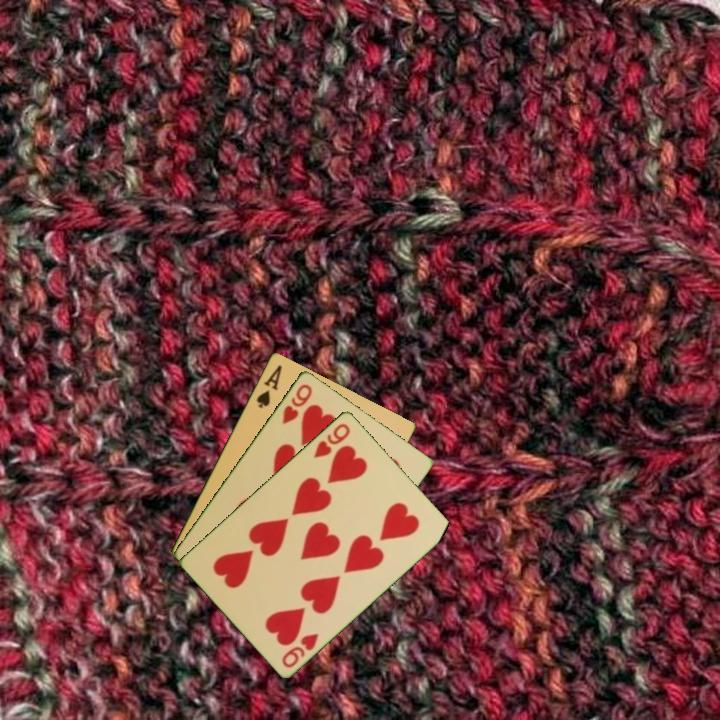9h: (278, 629, 322, 670), (310, 419, 353, 460), (278, 380, 315, 427)
As: (253, 361, 285, 411)
